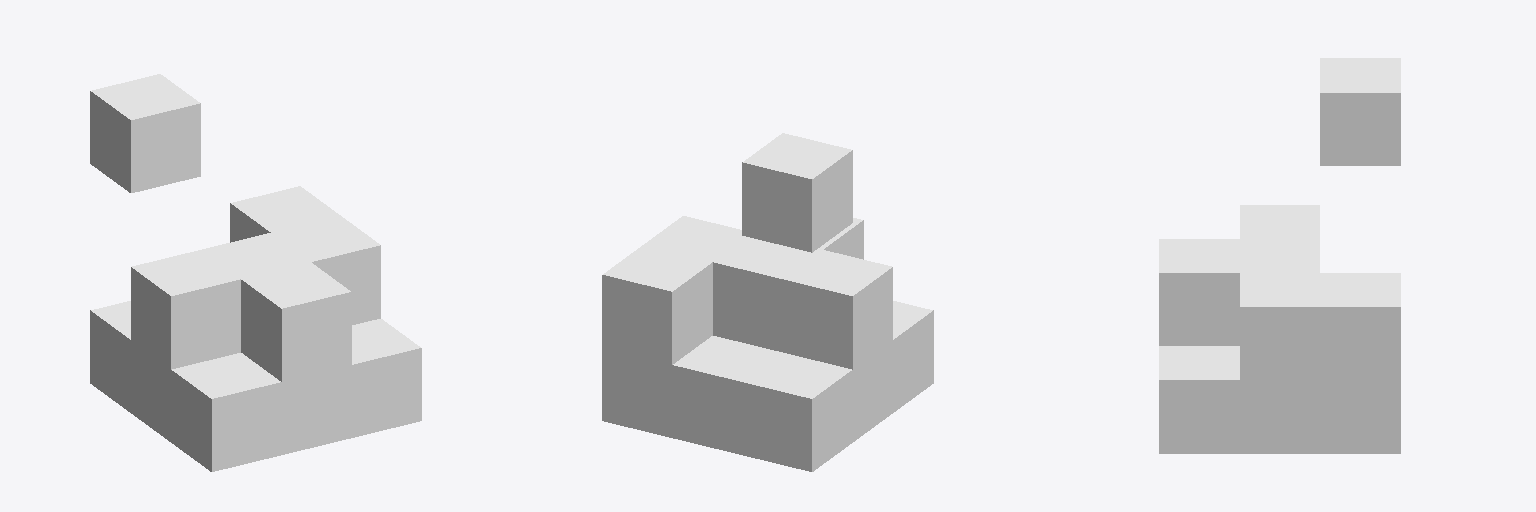
The model's file is wall_torch-1-flames.obj.
3 renders of one model, left to right at view 1: azimuth 30°, elevation 25°; view 2: azimuth 150°, elevation 25°; view 3: azimuth 270°, elevation 25°, orthographic.
Parts seen in each view (by area): view 1: flames; view 2: flames; view 3: flames.
Part boxes in pixels (x1,y1,x2,y2): flames: (90,74,421,471); flames: (602,133,933,471); flames: (1159,58,1400,453).
Size of the model in its own units: 0.3 by 0.4 by 0.3.